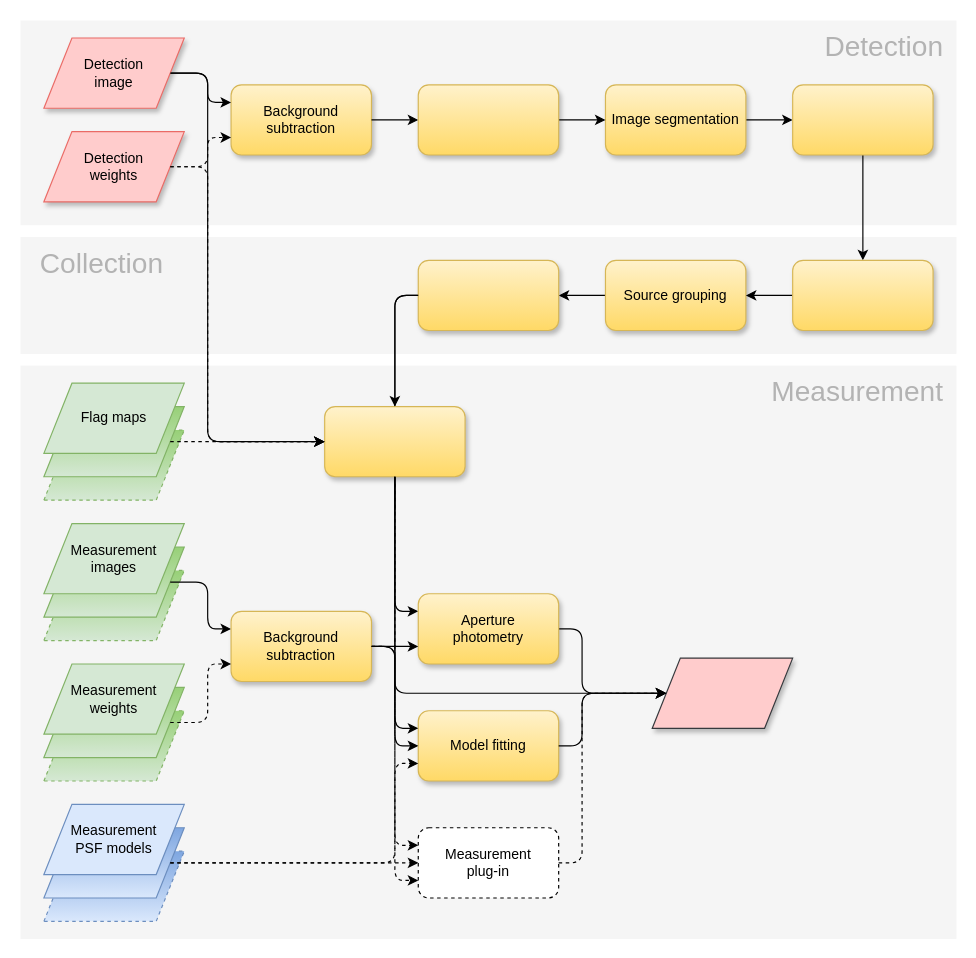
Some shapes in this 976 by 958 pixel diagram are drawn without their labels. The shapes that lost their labels are listed below. From the top down, each one's centre as x and y in pixels, then its label:
point 489,121: Image filtering
point 863,121: Source deblending
point 489,296: Source cleaning
point 863,296: Source fitting
point 395,443: Isophotal measurements
point 723,694: Output catalog
